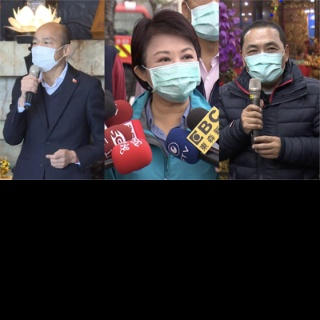with_mask: (144, 46, 201, 102), (242, 39, 286, 85), (32, 34, 65, 72)
